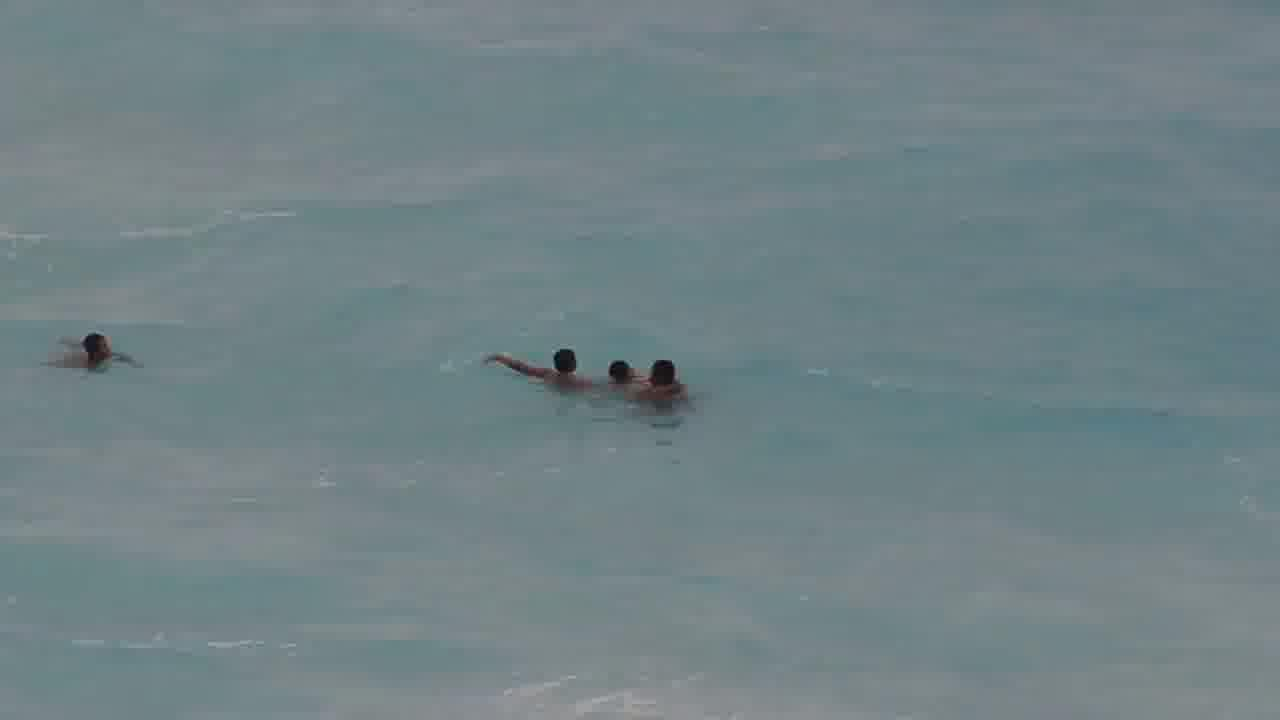swimmer: (481, 348, 594, 396), (43, 333, 151, 376), (638, 352, 692, 403), (593, 355, 641, 400)
